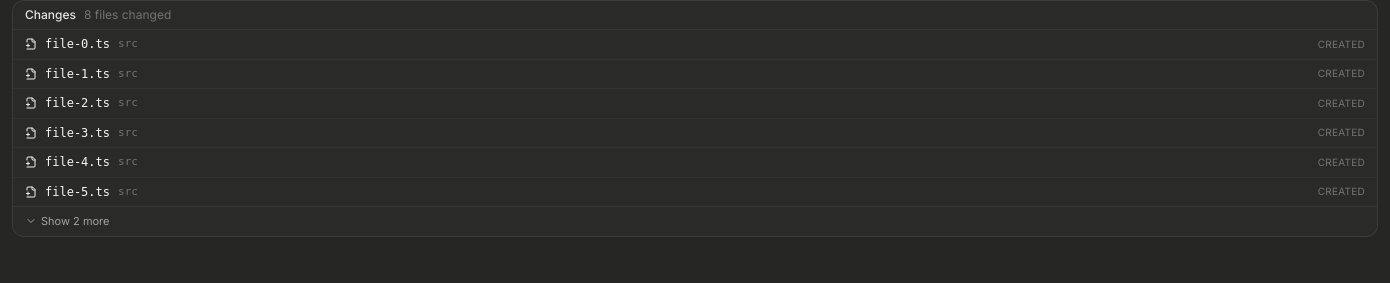
Test case: TurnChanges › lists the files a reply wrote and expands long lists
Check: the element named "Changes in this reply" shows "8 files changed", box [84,7,171,22]
Check: the text "file-0.ts" is shown, box [45,36,110,52]
Click the button "Show 2 more": (57, 221) [13,206,1377,236]
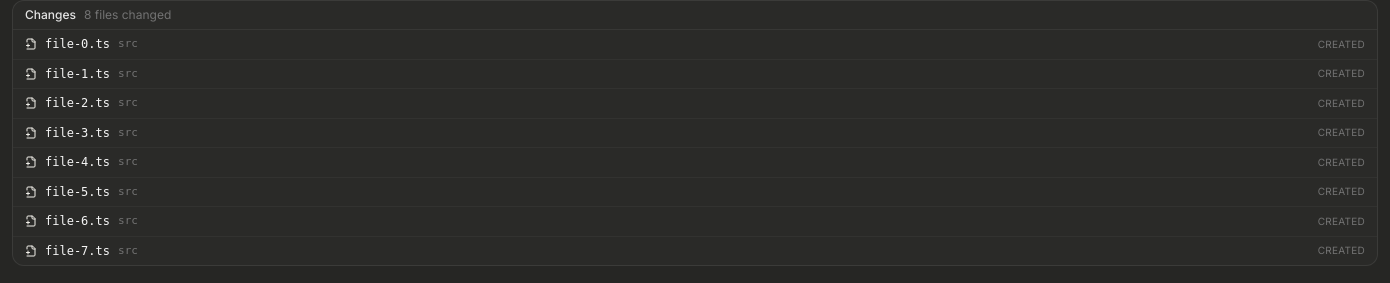
Check: the text "file-7.ts" is shown, box [45,243,110,259]
